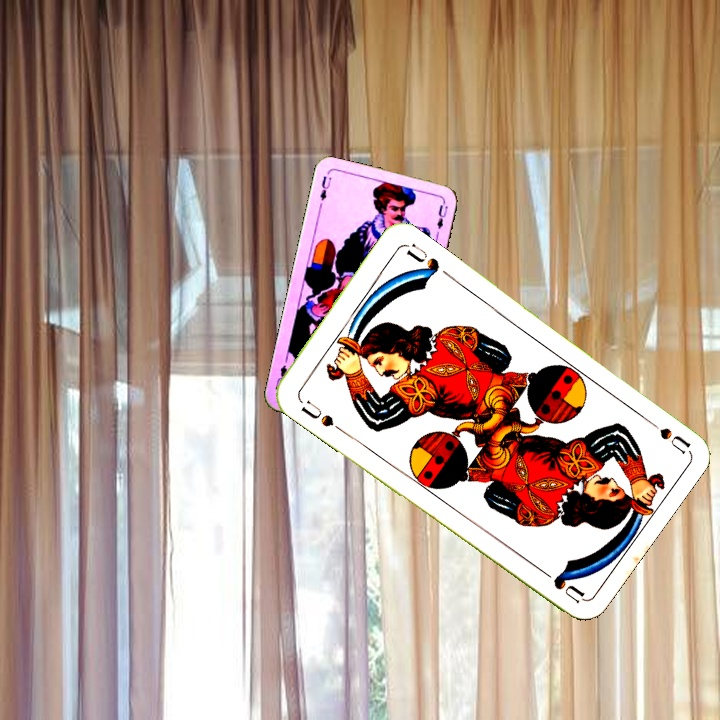EU: (315, 172, 334, 203)
SU: (638, 411, 692, 456), (297, 396, 337, 430)
